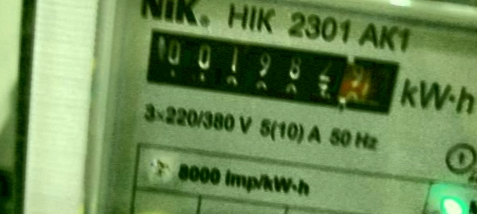0: (192, 39, 211, 69), (162, 34, 180, 64)
1: (224, 41, 238, 71)
2: (314, 51, 334, 81)
8: (284, 49, 302, 78)
9: (344, 59, 366, 88), (253, 46, 270, 76)
screen: (125, 11, 412, 127)
